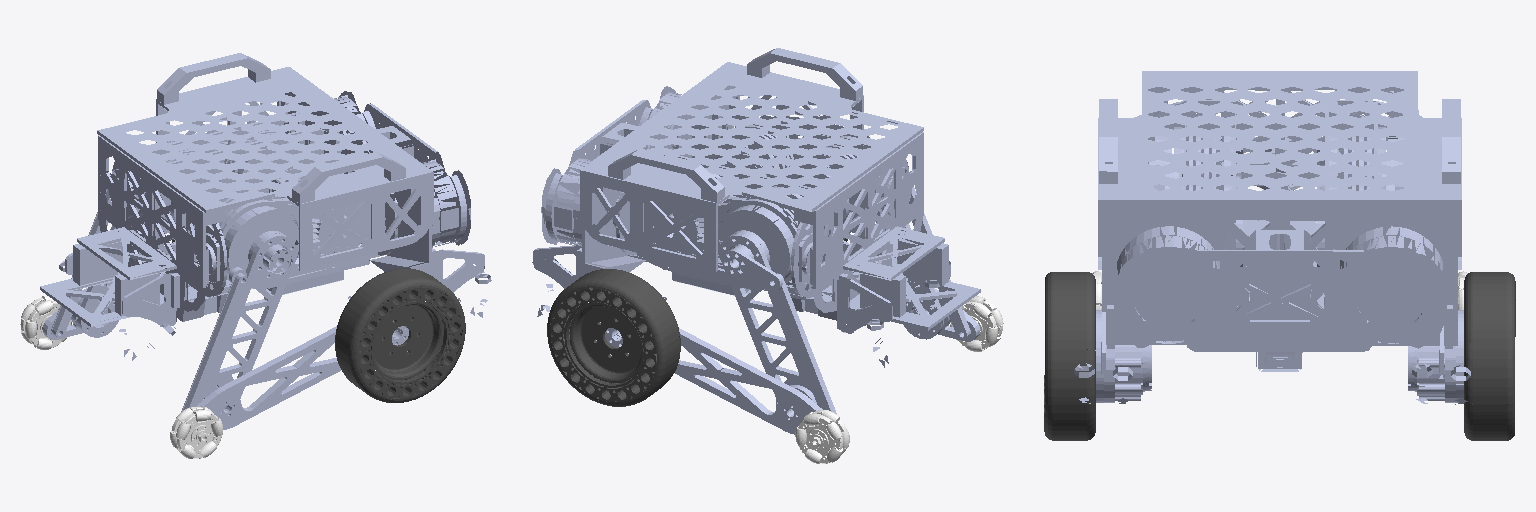
robot.urdf — nz:
<?xml version="1.0" encoding="utf-8"?>
<!-- This URDF was automatically created by SolidWorks to URDF Exporter! Originally created by [author] ([email redacted]) 
     Commit Version: 1.6.0-4-g7f85cfe  Build Version: 1.6.7995.38578
     For more information, please see http://wiki.ros.org/sw_urdf_exporter -->
<robot
  name="nz">
  <link
    name="base_link">
    <inertial>
      <origin
        xyz="0.0772110115185622 0.00365409160309633 0.0684731367019287"
        rpy="0 0 0" />
      <mass
        value="4.1216284" />
      <inertia
        ixx="0.0498463"
        ixy="0.0004170"
        ixz="-0.0040995"
        iyy="0.0768737"
        iyz="-0.0000207"
        izz="0.1033353" />
    </inertial>
    <visual>
      <origin
        xyz="0 0 0"
        rpy="0 0 0" />
      <geometry>
        <mesh
          filename="../meshes/base_link.STL" />
      </geometry>
      <material
        name="">
        <color
          rgba="0.792156862745098 0.819607843137255 0.933333333333333 1" />
      </material>
    </visual>
    <collision>
      <origin
        xyz="0 0 0"
        rpy="0 0 0" />
      <geometry>
        <mesh
          filename="../meshes/base_link.STL" />
      </geometry>
    </collision>
  </link>
  <link
    name="left_hip_link">
    <inertial>
      <origin
        xyz="-0.129913458293491 -0.0178191935412482 7.59898297969542E-05"
        rpy="0 0 0" />
      <mass
        value="3.3489287" />
      <inertia
        ixx="0.0041290"
        ixy="0.0008675"
        ixz="0.0000319"
        iyy="0.0161996"
        iyz="0.0000029"
        izz="0.0159030" />
    </inertial>
    <visual>
      <origin
        xyz="0 0 0"
        rpy="0 0 0" />
      <geometry>
        <mesh
          filename="../meshes/left_hip_link.STL" />
      </geometry>
      <material
        name="">
        <color
          rgba="0.792156862745098 0.819607843137255 0.933333333333333 1" />
      </material>
    </visual>
    <collision>
      <origin
        xyz="0 0 0"
        rpy="0 0 0" />
      <geometry>
        <mesh
          filename="../meshes/left_hip_link.STL" />
      </geometry>
    </collision>
  </link>
  <joint
    name="left_hip_joint"
    type="fixed">
    <origin
      xyz="0.15125 0.1033 0.074"
      rpy="-0.00073018 0 0" />
    <parent
      link="base_link" />
    <child
      link="left_hip_link" />
    <axis
      xyz="0 0 0" />
    <limit
      lower="-0.31416"
      upper="0.31416"
      effort="23.6"
      velocity="0" />
  </joint>
  <link
    name="left_thigh_link">
    <inertial>
      <origin
        xyz="-0.0488434597921626 0.00969818146991977 -0.0820338494792314"
        rpy="0 0 0" />
      <mass
        value="0.43777" />
      <inertia
        ixx="0.0017974"
        ixy="0.0000493"
        ixz="-0.0006903"
        iyy="0.0022850"
        iyz="0.0000485"
        izz="0.0005382" />
    </inertial>
    <visual>
      <origin
        xyz="0 0 0"
        rpy="0 0 0" />
      <geometry>
        <mesh
          filename="../meshes/left_thigh_link.STL" />
      </geometry>
      <material
        name="">
        <color
          rgba="0.792156862745098 0.819607843137255 0.933333333333333 1" />
      </material>
    </visual>
    <collision>
      <origin
        xyz="0 0 0"
        rpy="0 0 0" />
      <geometry>
        <mesh
          filename="../meshes/left_thigh_link.STL" />
      </geometry>
    </collision>
  </link>
  <joint
    name="left_thigh_joint"
    type="continuous">
    <origin
      xyz="-0.176 0.030301 0"
      rpy="0 0 0" />
    <parent
      link="left_hip_link" />
    <child
      link="left_thigh_link" />
    <axis
      xyz="0 1 0" />
    <limit
      lower="-1.0472"
      upper="0.5236"
      effort="40"
      velocity="0" />
  </joint>
  <link
    name="left_calf_link">
    <inertial>
      <origin
        xyz="0.16973424946336 0.00232413112260152 0.0454857130793686"
        rpy="0 0 0" />
      <mass
        value="0.8053" />
      <inertia
        ixx="0.0028731"
        ixy="0.0013546"
        ixz="-0.0032254"
        iyy="0.0089127"
        iyz="0.0009997"
        izz="0.0074584" />
    </inertial>
    <visual>
      <origin
        xyz="0 0 0"
        rpy="0 0 0" />
      <geometry>
        <mesh
          filename="../meshes/left_calf_link.STL" />
      </geometry>
      <material
        name="">
        <color
          rgba="0.792156862745098 0.819607843137255 0.933333333333333 1" />
      </material>
    </visual>
    <collision>
      <origin
        xyz="0 0 0"
        rpy="0 0 0" />
      <geometry>
        <mesh
          filename="../meshes/left_calf_link.STL" />
      </geometry>
    </collision>
  </link>
  <joint
    name="left_calf_joint"
    type="continuous">
    <origin
      xyz="-0.074709 0.018 -0.16376"
      rpy="0 0 0" />
    <parent
      link="left_thigh_link" />
    <child
      link="left_calf_link" />
    <axis
      xyz="0 1 0" />
    <limit
      lower="-1.3963"
      upper="0"
      effort="40"
      velocity="0" />
  </joint>
  <link
    name="left_wheel_link">
    <inertial>
      <origin
        xyz="-2.95235502711932E-11 0.0134999704617854 1.47686862739249E-11"
        rpy="0 0 0" />
      <mass
        value="0.75" />
      <inertia
        ixx="0.0015176"
        ixy="0"
        ixz="0"
        iyy="0.0028141"
        iyz="0"
        izz="0.0015176" />
    </inertial>
    <visual>
      <origin
        xyz="0 0 0"
        rpy="0 0 0" />
      <geometry>
        <mesh
          filename="../meshes/left_wheel_link.STL" />
      </geometry>
      <material
        name="">
        <color
          rgba="0.376470588235294 0.376470588235294 0.376470588235294 1" />
      </material>
    </visual>
    <collision>
      <origin
        xyz="0 0 0"
        rpy="0 0 0" />
      <geometry>
        <mesh
          filename="../meshes/left_wheel_link.STL" />
      </geometry>
    </collision>
  </link>
  <joint
    name="left_wheel_joint"
    type="continuous">
    <origin
      xyz="0.20864 0.027 0.055905"
      rpy="0 0 0" />
    <parent
      link="left_calf_link" />
    <child
      link="left_wheel_link" />
    <axis
      xyz="0 1 0" />
    <limit
      effort="12"
      velocity="0" />
  </joint>
  <link
    name="left_knee_link">
    <inertial>
      <origin
        xyz="5.44590350487484E-05 1.17713143685805E-05 -5.61706548485308E-06"
        rpy="0 0 0" />
      <mass
        value="0.09" />
      <inertia
        ixx="0.0000268"
        ixy="0.0000001"
        ixz="0.0000001"
        iyy="0.0000436"
        iyz="0.0000001"
        izz="0.0000268" />
    </inertial>
    <visual>
      <origin
        xyz="0 0 0"
        rpy="0 0 0" />
      <geometry>
        <mesh
          filename="../meshes/left_knee_link.STL" />
      </geometry>
      <material
        name="">
        <color
          rgba="1 1 1 1" />
      </material>
    </visual>
    <collision>
      <origin
        xyz="0 0 0"
        rpy="0 0 0" />
      <geometry>
        <mesh
          filename="../meshes/left_knee_link.STL" />
      </geometry>
    </collision>
  </link>
  <joint
    name="left_knee_wheel_joint"
    type="continuous">
    <origin
      xyz="-0.048296 0.02265 -0.012941"
      rpy="0 0 0" />
    <parent
      link="left_calf_link" />
    <child
      link="left_knee_link" />
    <axis
      xyz="0 1 0" />
    <limit
      lower="0"
      upper="0"
      effort="12"
      velocity="0" />
  </joint>
  <link
    name="right_hip_link">
    <inertial>
      <origin
        xyz="-0.12914218220028 0.0176739637017305 0.00105196820752493"
        rpy="0 0 0" />
      <mass
        value="3.3496969" />
      <inertia
        ixx="0.0041552"
        ixy="-0.0008223"
        ixz="0.0000276"
        iyy="0.0162365"
        iyz="-0.0000519"
        izz="0.0159605" />
    </inertial>
    <visual>
      <origin
        xyz="0 0 0"
        rpy="0 0 0" />
      <geometry>
        <mesh
          filename="../meshes/right_hip_link.STL" />
      </geometry>
      <material
        name="">
        <color
          rgba="0.796078431372549 0.823529411764706 0.937254901960784 1" />
      </material>
    </visual>
    <collision>
      <origin
        xyz="0 0 0"
        rpy="0 0 0" />
      <geometry>
        <mesh
          filename="../meshes/right_hip_link.STL" />
      </geometry>
    </collision>
  </link>
  <joint
    name="right_hip_joint"
    type="fixed">
    <origin
      xyz="0.15125 -0.096698 0.074146"
      rpy="-0.00073018 0 0" />
    <parent
      link="base_link" />
    <child
      link="right_hip_link" />
    <axis
      xyz="0 0 0" />
    <limit
      lower="0.31416"
      upper="-0.31416"
      effort="23.6"
      velocity="0" />
  </joint>
  <link
    name="right_thigh_link">
    <inertial>
      <origin
        xyz="-0.0506448629787332 -0.00635154610052269 -0.0843417759624508"
        rpy="0 0 0" />
      <mass
        value="0.43777" />
      <inertia
        ixx="0.0017973"
        ixy="-0.0000497"
        ixz="-0.0006902"
        iyy="0.0022849"
        iyz="-0.0000512"
        izz="0.0005382" />
    </inertial>
    <visual>
      <origin
        xyz="0 0 0"
        rpy="0 0 0" />
      <geometry>
        <mesh
          filename="../meshes/right_thigh_link.STL" />
      </geometry>
      <material
        name="">
        <color
          rgba="0.792156862745098 0.819607843137255 0.933333333333333 1" />
      </material>
    </visual>
    <collision>
      <origin
        xyz="0 0 0"
        rpy="0 0 0" />
      <geometry>
        <mesh
          filename="../meshes/right_thigh_link.STL" />
      </geometry>
    </collision>
  </link>
  <joint
    name="right_thigh_joint"
    type="continuous">
    <origin
      xyz="-0.176 -0.030251 0"
      rpy="0 0 0" />
    <parent
      link="right_hip_link" />
    <child
      link="right_thigh_link" />
    <axis
      xyz="0 1 0" />
    <limit
      lower="-1.0472"
      upper="0.5236"
      effort="40"
      velocity="0" />
  </joint>
  <link
    name="right_calf_link">
    <inertial>
      <origin
        xyz="0.169737034100335 -0.00232413115555213 0.0454753206356527"
        rpy="0 0 0" />
      <mass
        value="0.8053" />
      <inertia
        ixx="0.0012274"
        ixy="-0.0016758"
        ixz="-0.0003727"
        iyy="0.0089116"
        iyz="0.0001884"
        izz="0.0091053" />
    </inertial>
    <visual>
      <origin
        xyz="0 0 0"
        rpy="0 0 0" />
      <geometry>
        <mesh
          filename="../meshes/right_calf_link.STL" />
      </geometry>
      <material
        name="">
        <color
          rgba="0.792156862745098 0.819607843137255 0.933333333333333 1" />
      </material>
    </visual>
    <collision>
      <origin
        xyz="0 0 0"
        rpy="0 0 0" />
      <geometry>
        <mesh
          filename="../meshes/right_calf_link.STL" />
      </geometry>
    </collision>
  </link>
  <joint
    name="right_calf_joint"
    type="continuous">
    <origin
      xyz="-0.074709 -0.018 -0.16376"
      rpy="0 0 0" />
    <parent
      link="right_thigh_link" />
    <child
      link="right_calf_link" />
    <axis
      xyz="0 1 0" />
    <limit
      lower="-1.3963"
      upper="0"
      effort="40"
      velocity="0" />
  </joint>
  <link
    name="right_knee_link">
    <inertial>
      <origin
        xyz="-2.24251046984092E-05 1.17685271968926E-05 4.9933180993611E-05"
        rpy="0 0 0" />
      <mass
        value="0.09" />
      <inertia
        ixx="0.0000269"
        ixy="-0.0000001"
        ixz="-0.0000001"
        iyy="0.0000436"
        iyz="0"
        izz="0.0000267" />
    </inertial>
    <visual>
      <origin
        xyz="0 0 0"
        rpy="0 0 0" />
      <geometry>
        <mesh
          filename="../meshes/right_knee_link.STL" />
      </geometry>
      <material
        name="">
        <color
          rgba="1 1 1 1" />
      </material>
    </visual>
    <collision>
      <origin
        xyz="0 0 0"
        rpy="0 0 0" />
      <geometry>
        <mesh
          filename="../meshes/right_knee_link.STL" />
      </geometry>
    </collision>
  </link>
  <joint
    name="right_knee_wheel_joint"
    type="continuous">
    <origin
      xyz="-0.048296 -0.02265 -0.012941"
      rpy="0 0 0" />
    <parent
      link="right_calf_link" />
    <child
      link="right_knee_link" />
    <axis
      xyz="0 1 0" />
  </joint>
  <link
    name="right_wheel_link">
    <inertial>
      <origin
        xyz="3.30144800386734E-11 -0.01349997046178 -2.88005730375573E-13"
        rpy="0 0 0" />
      <mass
        value="0.75" />
      <inertia
        ixx="0.0015176"
        ixy="0"
        ixz="0"
        iyy="0.0028141"
        iyz="0"
        izz="0.0015176" />
    </inertial>
    <visual>
      <origin
        xyz="0 0 0"
        rpy="0 0 0" />
      <geometry>
        <mesh
          filename="../meshes/right_wheel_link.STL" />
      </geometry>
      <material
        name="">
        <color
          rgba="0.376470588235294 0.376470588235294 0.376470588235294 1" />
      </material>
    </visual>
    <collision>
      <origin
        xyz="0 0 0"
        rpy="0 0 0" />
      <geometry>
        <mesh
          filename="../meshes/right_wheel_link.STL" />
      </geometry>
    </collision>
  </link>
  <joint
    name="right_wheel_joint"
    type="continuous">
    <origin
      xyz="0.20864 -0.027 0.055905"
      rpy="0 0 0" />
    <parent
      link="right_calf_link" />
    <child
      link="right_wheel_link" />
    <axis
      xyz="0 1 0" />
    <limit
      effort="12"
      velocity="0" />
  </joint>
</robot>

--- Render facts (derived) ---
Views: 3 orthographic renders of the robot side by side, from view 1: azimuth 30°, elevation 25°; view 2: azimuth 150°, elevation 25°; view 3: azimuth 270°, elevation 25°.
Model nz with 11 links and 10 joints (8 continuous, 2 fixed), rooted at base_link, posed every joint at zero.
Links seen in each view (by area): view 1: base_link, right_wheel_link, right_hip_link, right_thigh_link, right_calf_link, left_hip_link, right_knee_link, left_thigh_link, left_knee_link; view 2: base_link, left_wheel_link, left_hip_link, left_thigh_link, left_calf_link, right_hip_link, left_knee_link, right_thigh_link, right_knee_link, right_calf_link; view 3: base_link, left_wheel_link, right_wheel_link, right_calf_link, left_calf_link, right_hip_link, left_hip_link.
Boxes of the visible links, left/top/right/bottom form: base_link: left=40, top=53, right=491, bottom=360; right_wheel_link: left=335, top=268, right=465, bottom=402; right_hip_link: left=186, top=159, right=400, bottom=297; right_thigh_link: left=181, top=233, right=296, bottom=411; right_calf_link: left=196, top=296, right=417, bottom=429; left_hip_link: left=110, top=111, right=323, bottom=252; right_knee_link: left=170, top=406, right=222, bottom=458; left_thigh_link: left=51, top=189, right=143, bottom=337; left_knee_link: left=20, top=296, right=71, bottom=349; base_link: left=532, top=48, right=980, bottom=367; left_wheel_link: left=547, top=269, right=680, bottom=406; left_hip_link: left=613, top=154, right=833, bottom=298; left_thigh_link: left=720, top=233, right=836, bottom=413; left_calf_link: left=596, top=297, right=822, bottom=434; right_hip_link: left=692, top=107, right=910, bottom=252; left_knee_link: left=795, top=410, right=849, bottom=463; right_thigh_link: left=877, top=187, right=970, bottom=340; right_knee_link: left=950, top=296, right=1003, bottom=351; right_calf_link: left=843, top=240, right=980, bottom=341; base_link: left=1074, top=71, right=1470, bottom=404; left_wheel_link: left=1464, top=272, right=1515, bottom=440; right_wheel_link: left=1044, top=272, right=1095, bottom=440; right_calf_link: left=1095, top=310, right=1151, bottom=402; left_calf_link: left=1408, top=310, right=1463, bottom=402; right_hip_link: left=1148, top=100, right=1242, bottom=266; left_hip_link: left=1317, top=100, right=1403, bottom=309.
Bounding box of the posed robot: 0.4575 × 0.4236 × 0.3142 m (x, y, z).
11 mesh visuals loaded from 11 distinct referenced files (11 binary STL).